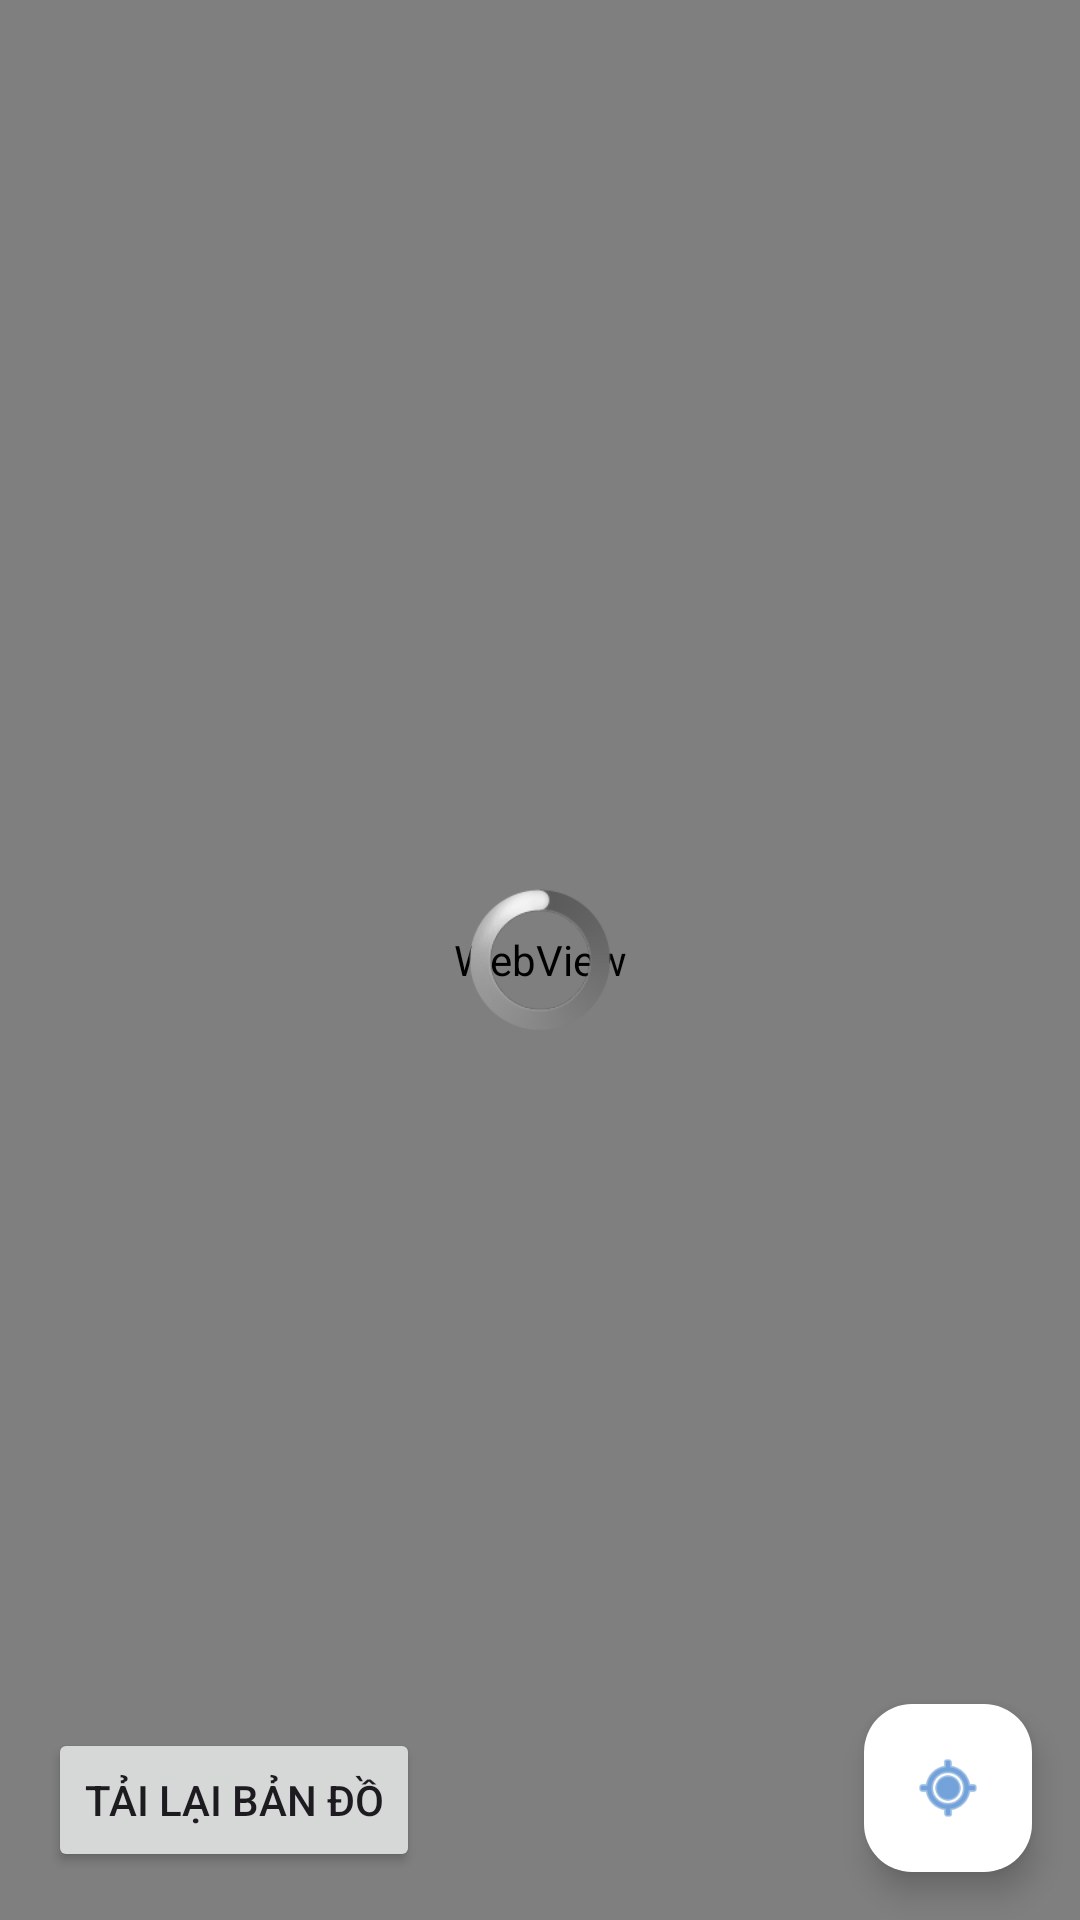

Screen size 1080w x 1920h. Icon name, then its box in pixels as {"x1": x1, "y1": y1, "x2": x2, "y2": y2}:
My location: {"x1": 864, "y1": 1704, "x2": 1032, "y2": 1872}
